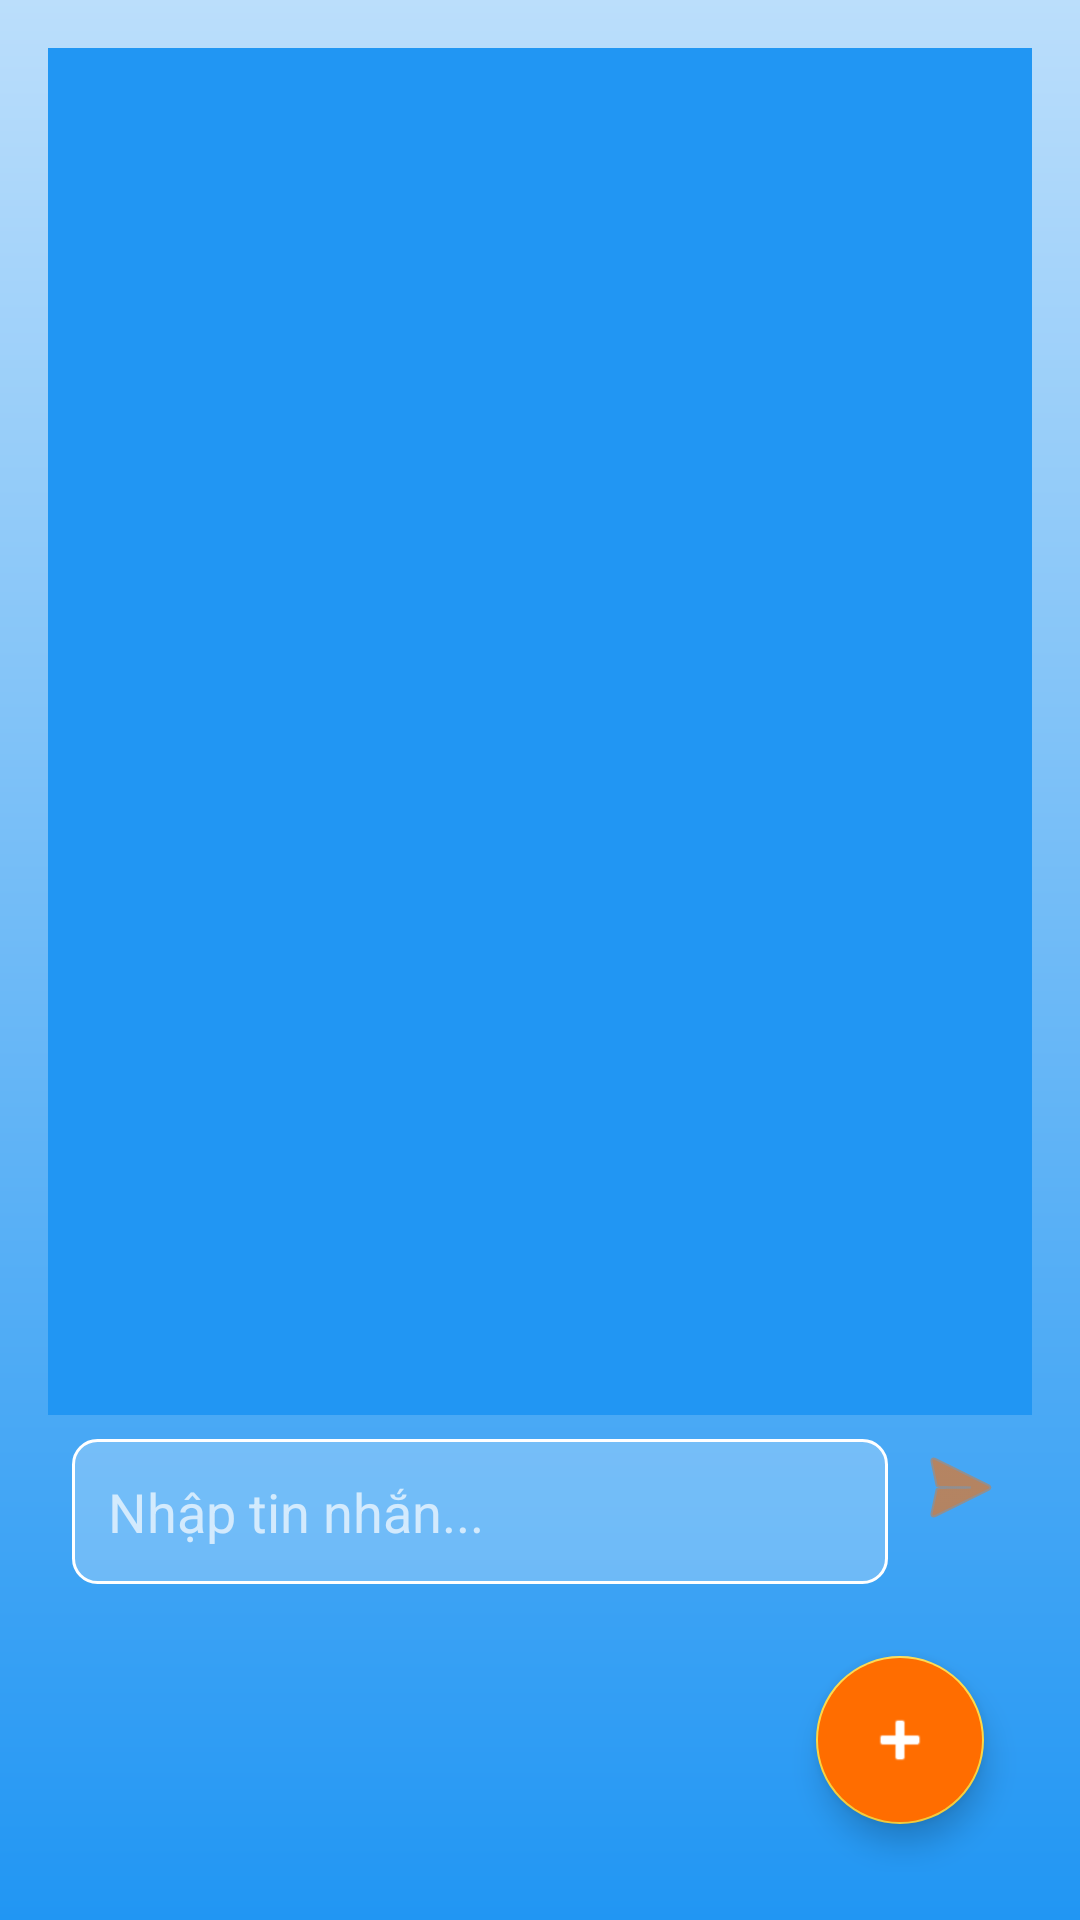

Icons on this 1080px×1920px Android screen, each with its box as (x1, y1, x2, y2):
Gửi tin nhắn: (930, 1457, 992, 1518)
Thêm thành viên: (816, 1656, 984, 1824)
